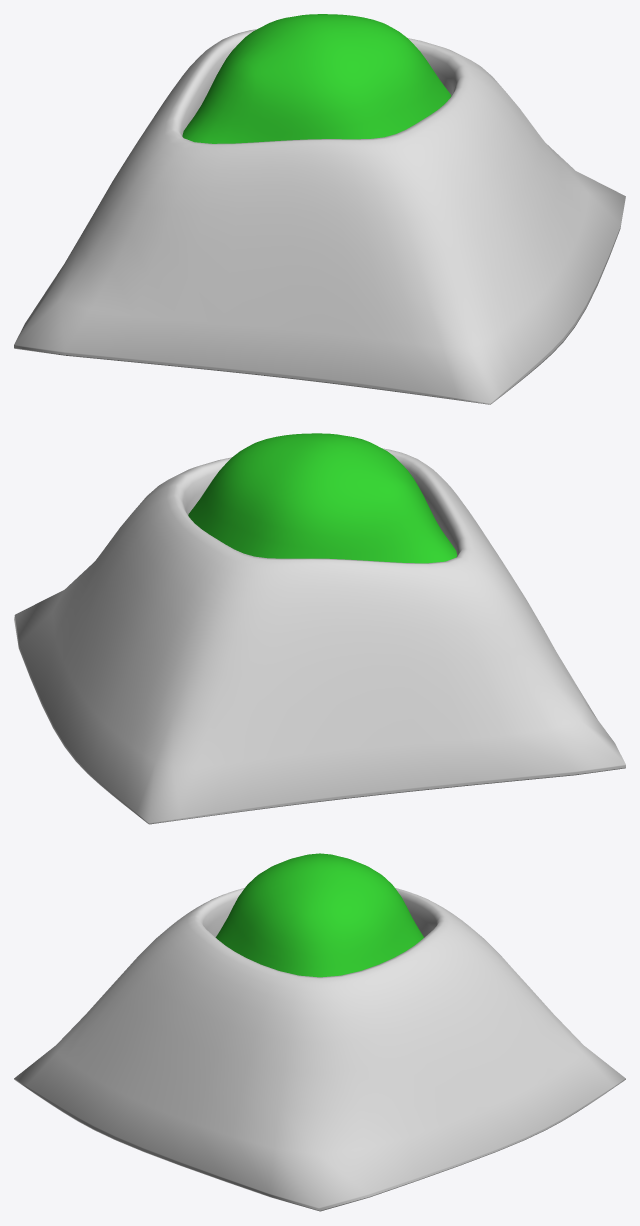
Rendered from Button.fbx.
The picture shows the model from 3 angles, top to bottom: view 1: azimuth 30°, elevation 25°; view 2: azimuth 150°, elevation 25°; view 3: azimuth 270°, elevation 25°; orthographic projection. The views are drawn at different scales.
Visible parts, largest first — view 1: Button, Button_connection; view 2: Button, Button_connection; view 3: Button, Button_connection.
Part boxes in pixels (<box>): Button: <box>14,29,625,404</box>; Button_connection: <box>182,14,451,143</box>; Button: <box>14,448,625,824</box>; Button_connection: <box>188,433,457,563</box>; Button: <box>14,888,625,1211</box>; Button_connection: <box>215,853,424,977</box>.
Size of the model in its own units: 99.87 by 39.23 by 100.
